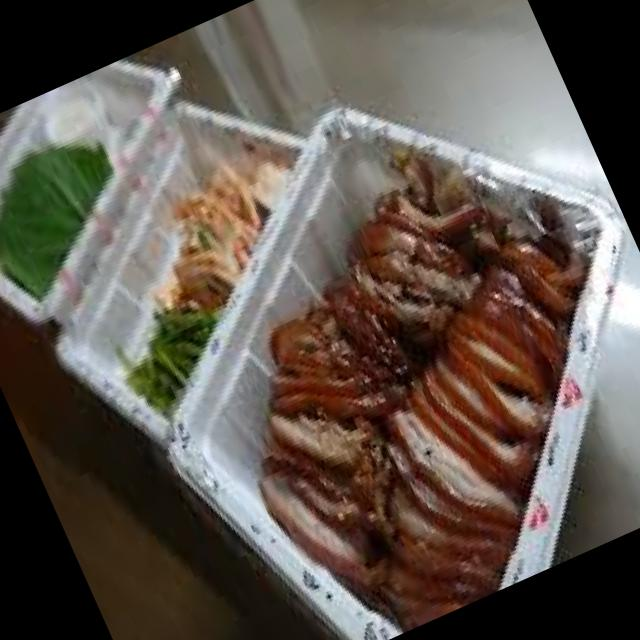plastic-bowl: (152, 82, 621, 640), (36, 86, 316, 468), (36, 82, 117, 150)
